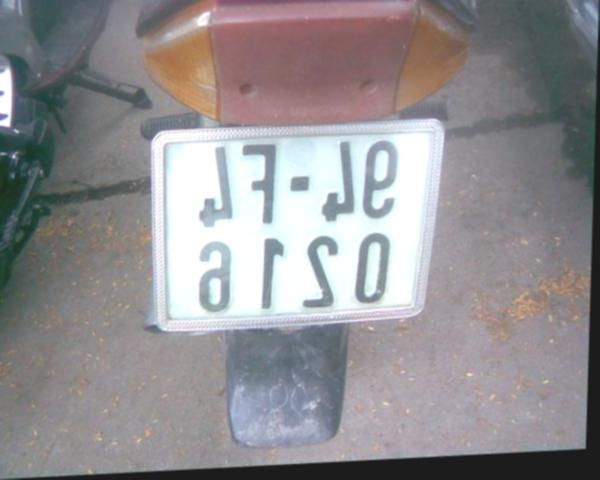License_Plate: (164, 120, 441, 331)
